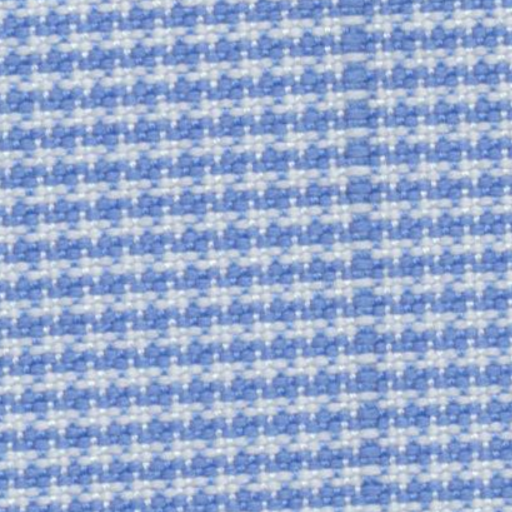TuoSha: (317, 30, 422, 496)
